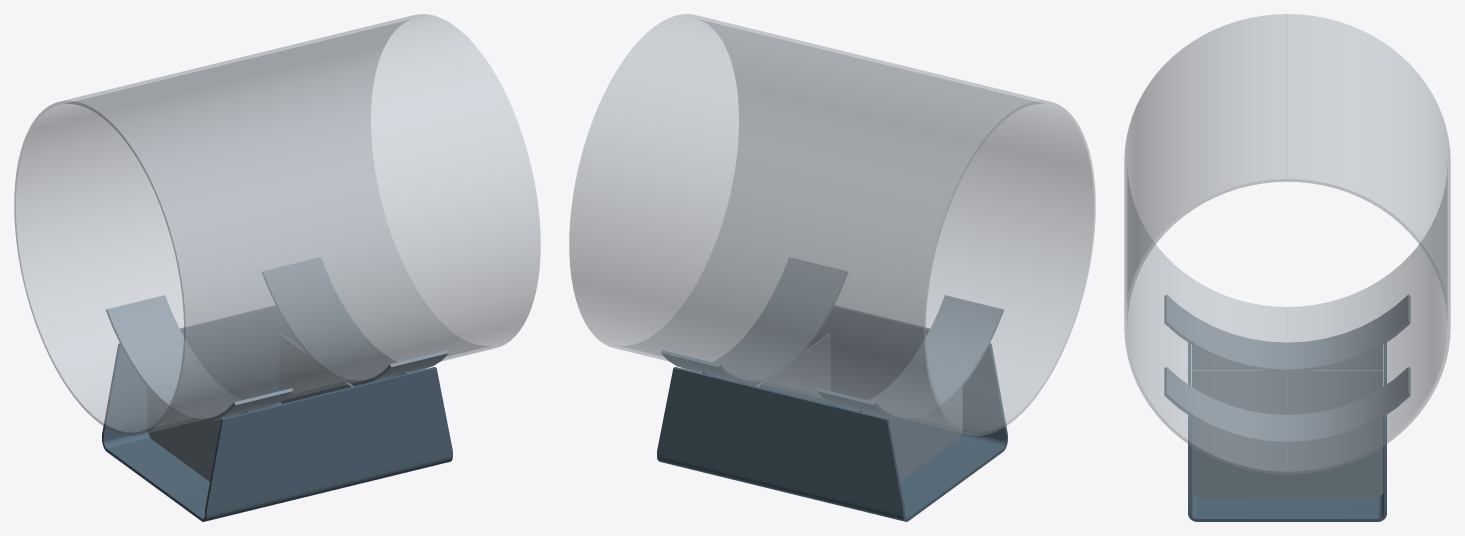
File: TS-624.000-104-opora-dn820-H200-L680.glb
3 views of the same model, side by side, from view 1: azimuth 30°, elevation 25°; view 2: azimuth 150°, elevation 25°; view 3: azimuth 270°, elevation 25° (orthographic). The views are drawn at different scales.
Parts seen in each view (by area): view 1: truba, skoba, podushka_0, podushka_1, rebro3_0, rebro4_1; view 2: truba, skoba, podushka_0, podushka_1, rebro3_0, rebro4_1; view 3: truba, rebro3_1, podushka_1, podushka_0, rebro4_0, skoba, rebro3_0.
Part boxes in pixels (left/top/right/bottom): truba: left=14, top=14, right=540, bottom=435; skoba: left=102, top=305, right=452, bottom=521; podushka_0: left=106, top=295, right=292, bottom=421; podushka_1: left=262, top=257, right=448, bottom=383; rebro3_0: left=147, top=387, right=250, bottom=481; rebro4_1: left=279, top=334, right=353, bottom=403; truba: left=569, top=14, right=1095, bottom=435; skoba: left=657, top=305, right=1007, bottom=521; podushka_0: left=817, top=295, right=1003, bottom=421; podushka_1: left=661, top=257, right=847, bottom=383; rebro3_0: left=859, top=387, right=962, bottom=481; rebro4_1: left=756, top=334, right=830, bottom=403; truba: left=1124, top=14, right=1450, bottom=474; rebro3_1: left=1191, top=418, right=1383, bottom=498; podushka_1: left=1164, top=367, right=1410, bottom=444; podushka_0: left=1164, top=294, right=1410, bottom=372; rebro4_0: left=1191, top=370, right=1383, bottom=414; skoba: left=1188, top=343, right=1386, bottom=521; rebro3_0: left=1191, top=345, right=1383, bottom=369.
Bounding box in the file's own units: 980 × 1021 × 820.
